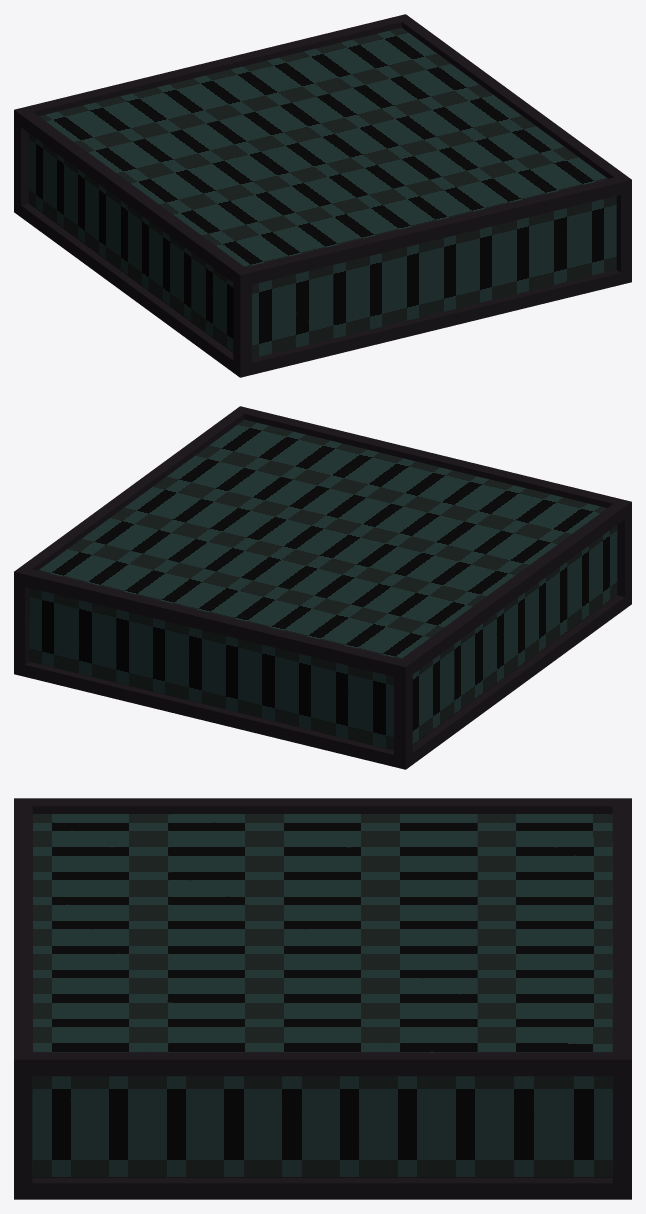
Rendered from Floor_Grate_01.glb.
The picture shows the model from 3 angles, top to bottom: view 1: azimuth 30°, elevation 25°; view 2: azimuth 150°, elevation 25°; view 3: azimuth 270°, elevation 25°; orthographic projection. The views are drawn at different scales.
Parts seen in each view (by area): view 1: Floor_Grate_01; view 2: Floor_Grate_01; view 3: Floor_Grate_01.
Boxes of the visible parts, bbox=[...] form: Floor_Grate_01: bbox=[14, 14, 631, 377]; Floor_Grate_01: bbox=[14, 406, 631, 769]; Floor_Grate_01: bbox=[14, 798, 631, 1199].
Bounding box in the file's own units: 1 × 0.25 × 1.
Materials: 1 (1 with a texture image).
